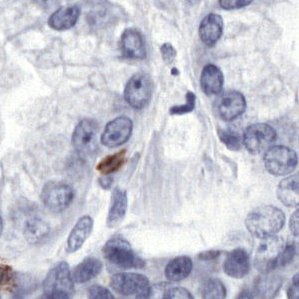Lymphocyte: (97, 150, 127, 172)
